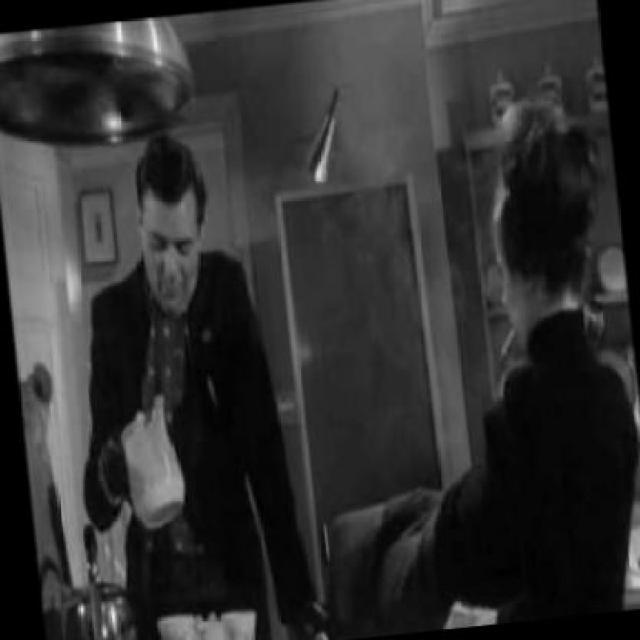smoke: (494, 323, 518, 362)
